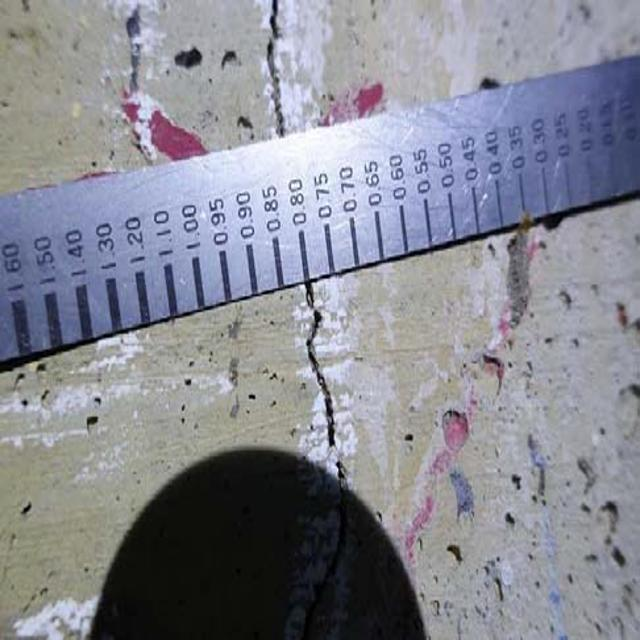crack: (294, 287, 357, 480), (257, 3, 307, 148)
